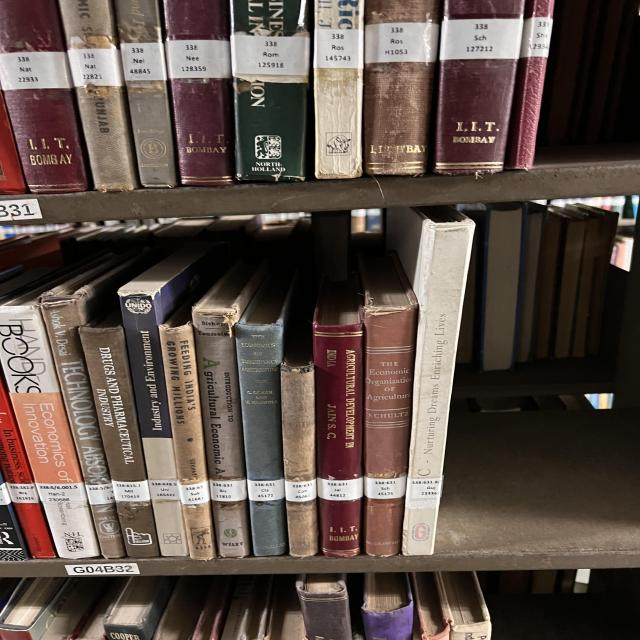Book: (40, 254, 150, 559), (387, 205, 475, 555), (118, 244, 213, 556), (0, 285, 100, 559), (192, 262, 268, 558), (78, 314, 158, 558), (358, 254, 418, 556), (235, 275, 297, 556), (433, 0, 525, 175), (158, 306, 217, 560), (60, 0, 138, 191), (230, 0, 310, 181), (313, 281, 363, 558), (163, 0, 237, 186), (363, 0, 440, 176), (115, 0, 178, 188), (0, 370, 57, 559), (313, 0, 363, 179), (280, 325, 318, 556), (505, 0, 555, 170), (0, 92, 27, 194), (0, 475, 30, 561)
Label: (440, 19, 523, 60), (232, 35, 310, 76), (365, 22, 438, 64), (0, 51, 72, 90), (165, 40, 232, 79), (68, 49, 123, 88), (313, 29, 363, 69), (120, 42, 167, 81), (520, 18, 553, 58), (317, 478, 363, 501), (35, 482, 87, 502), (365, 475, 407, 499), (407, 476, 443, 500), (247, 479, 285, 501), (210, 479, 247, 501), (112, 480, 150, 501), (178, 481, 210, 505), (285, 479, 317, 502), (85, 482, 115, 505), (7, 484, 40, 504), (148, 480, 180, 500)
